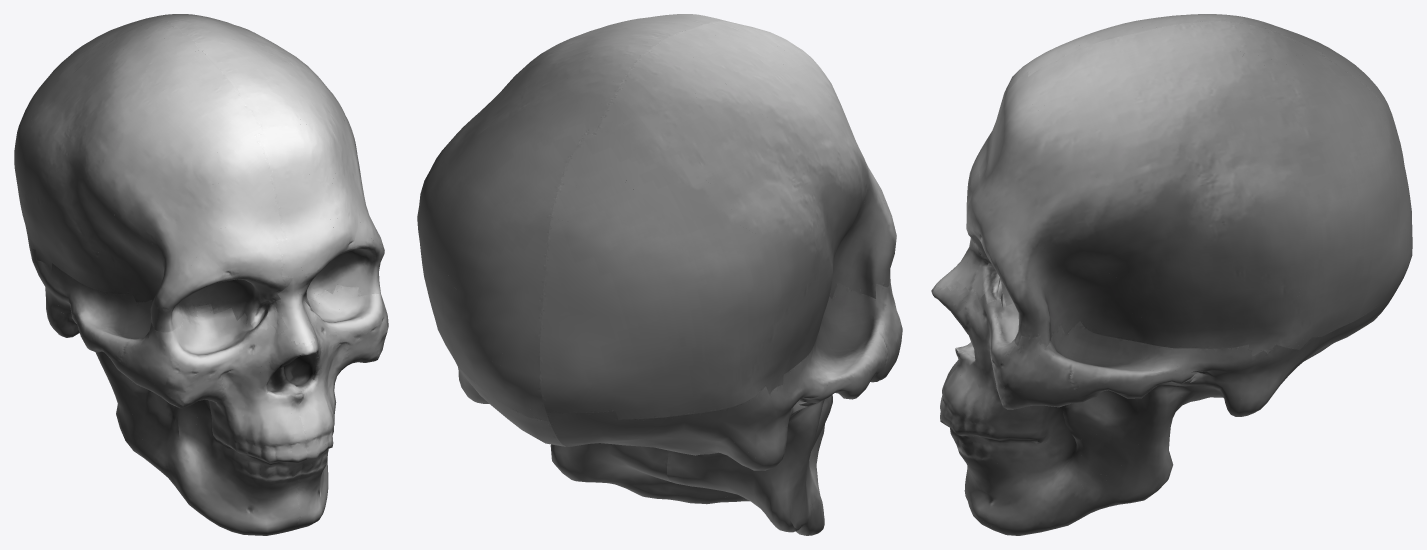
File: 头骨_人类头骨02_opt.glb
3 views of the same model, side by side, from view 1: azimuth 30°, elevation 25°; view 2: azimuth 150°, elevation 25°; view 3: azimuth 270°, elevation 25° (orthographic). The views are drawn at different scales.
Visible parts, largest first — view 1: defaultMat, defaultMat_1; view 2: defaultMat, defaultMat_1; view 3: defaultMat, defaultMat_1.
Part boxes in pixels (x1,y1,x2,y2): defaultMat: [14, 14, 388, 535]; defaultMat_1: [28, 16, 387, 531]; defaultMat: [417, 14, 902, 535]; defaultMat_1: [444, 21, 902, 512]; defaultMat: [931, 14, 1412, 535]; defaultMat_1: [940, 14, 1410, 534].
Size of the model in its own units: 0.2024 by 0.3 by 0.2689.
Materials: 1 (1 with a texture image).
